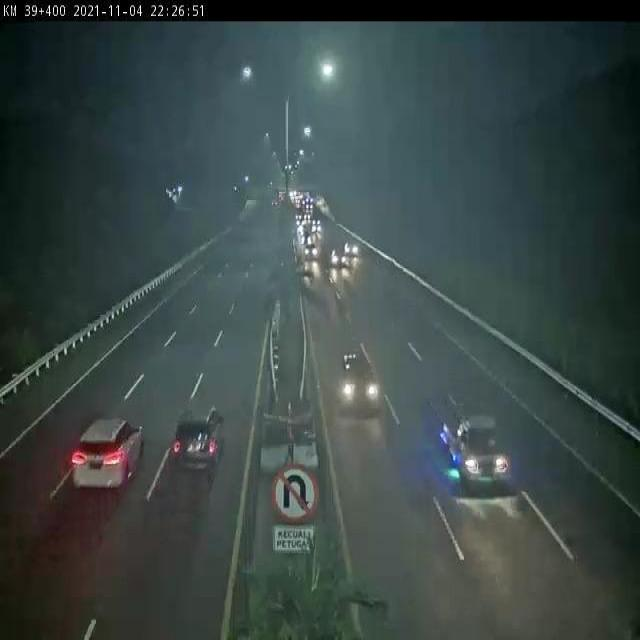car: (71, 416, 145, 489), (174, 405, 225, 472), (337, 352, 379, 411)
truck-s-: (439, 409, 510, 491)
